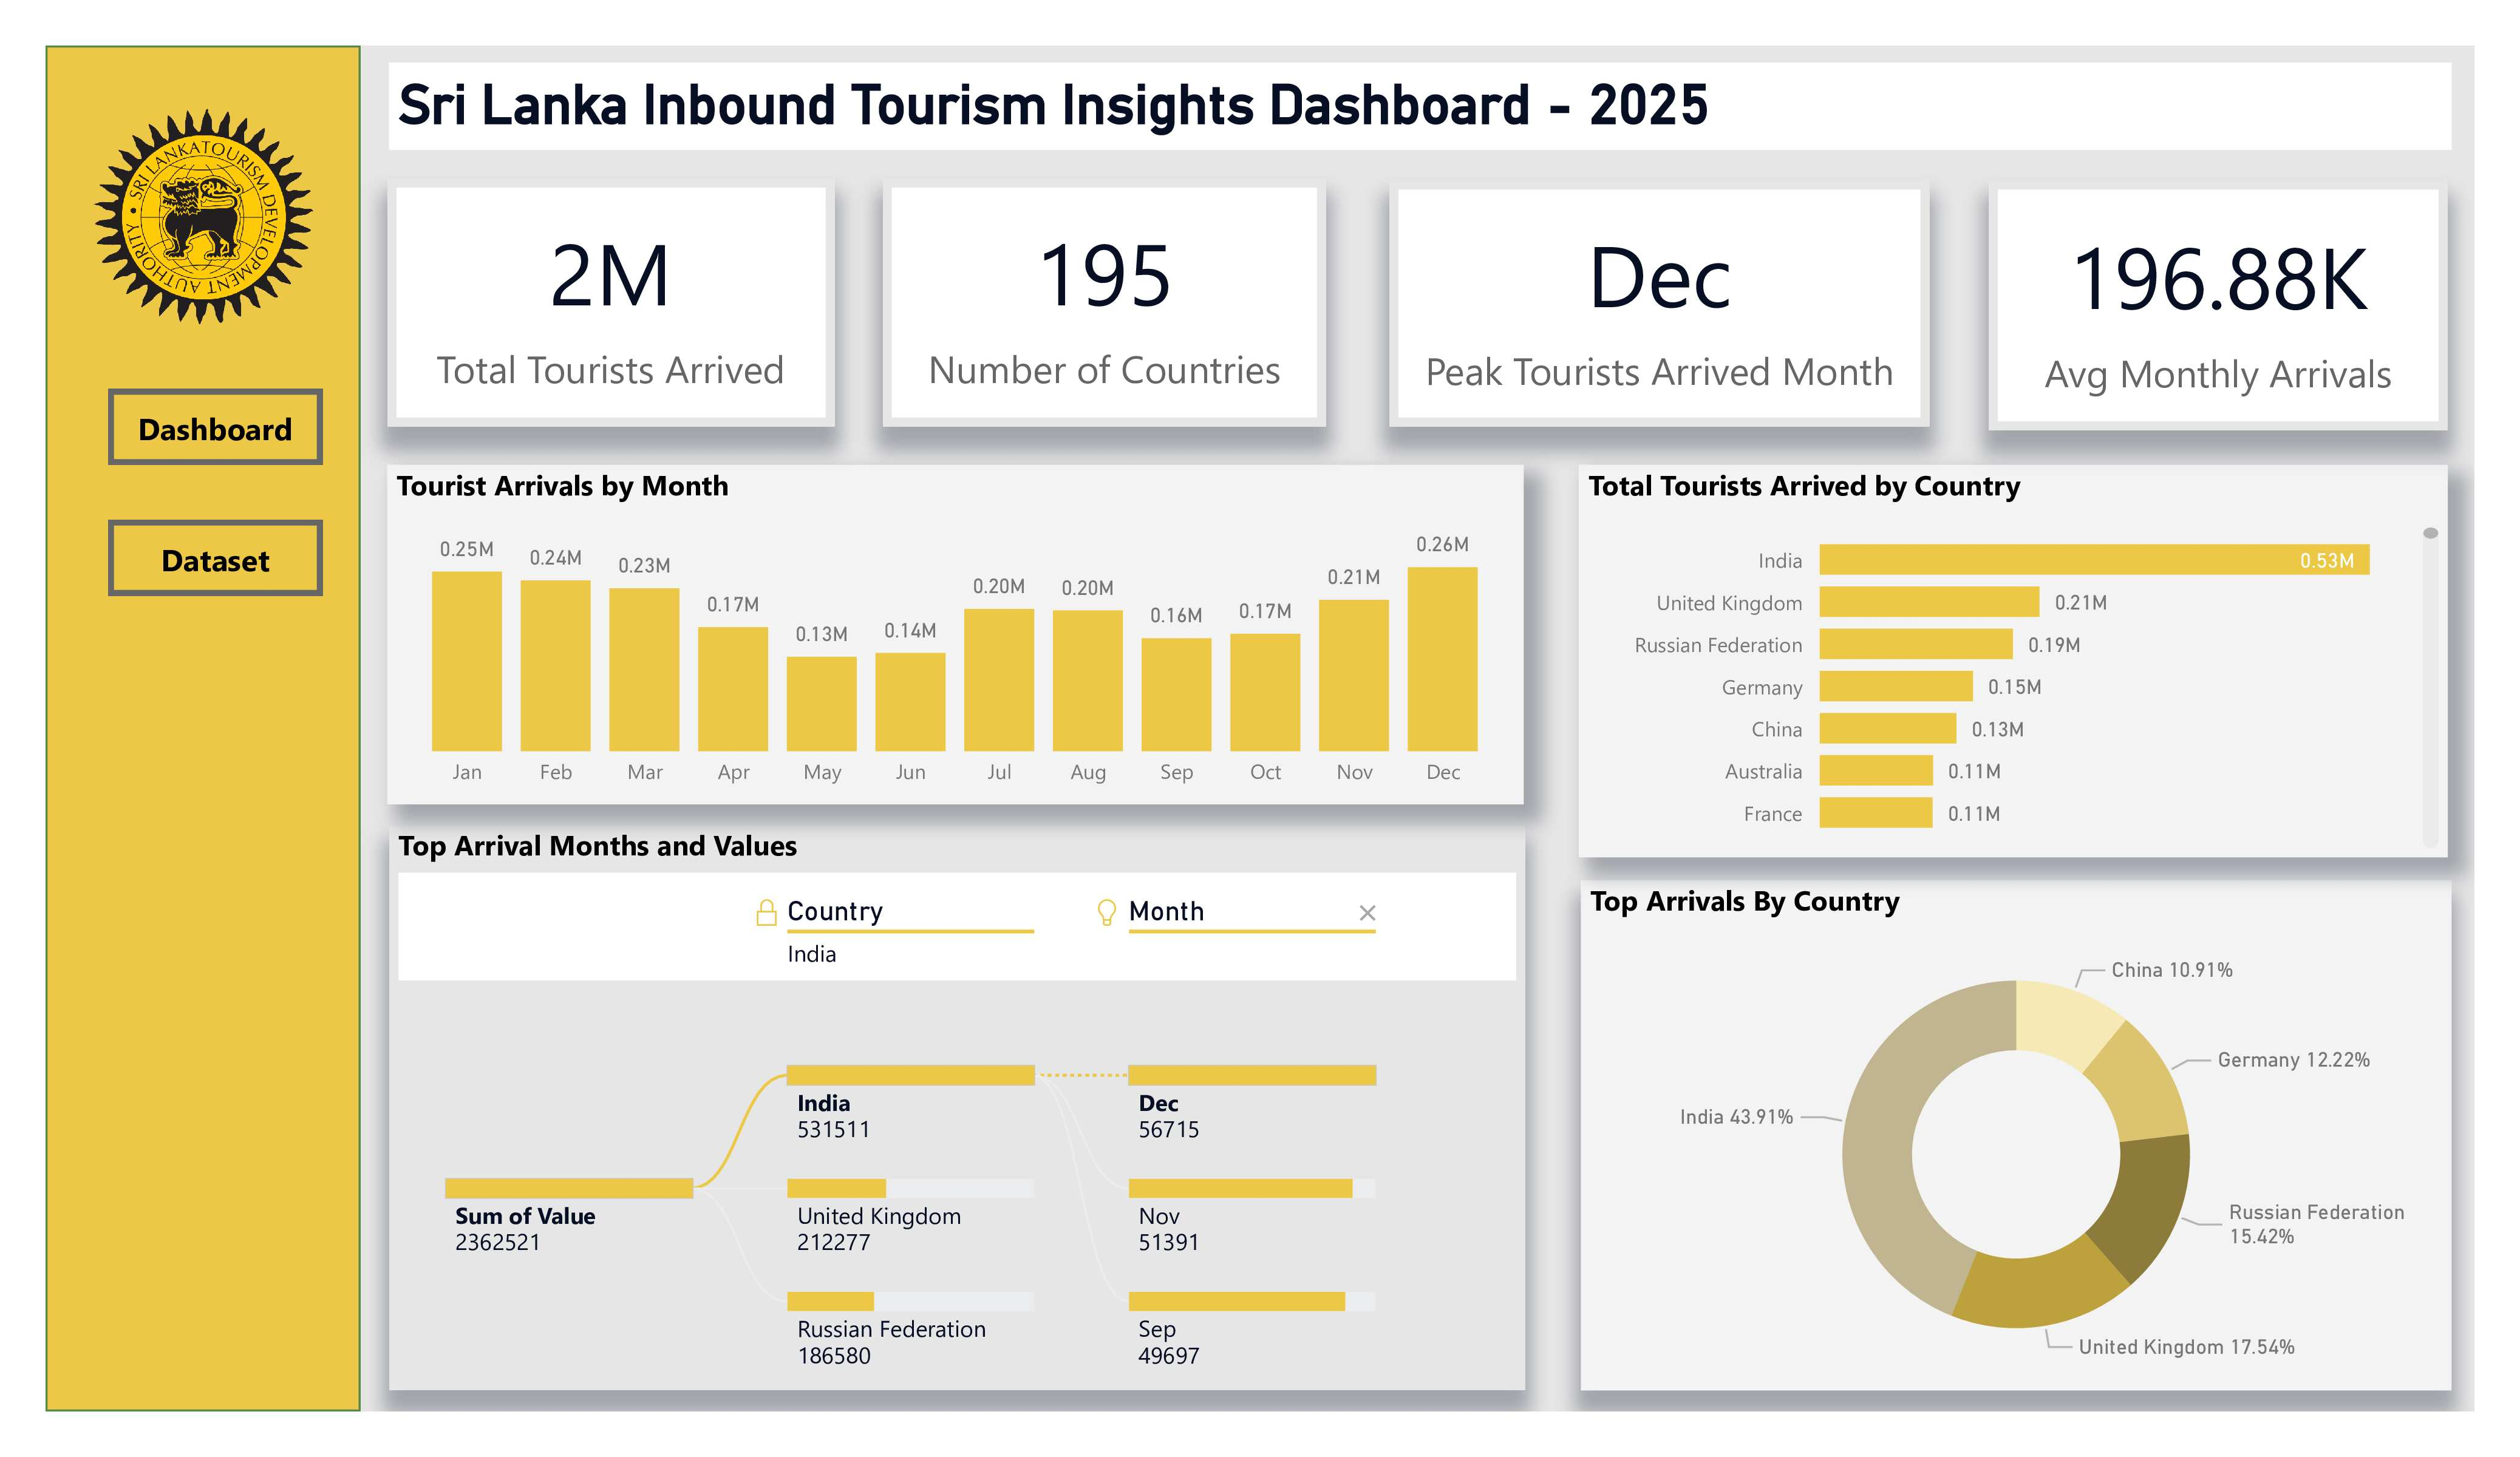

Layout of this report page (visuals, bound fields, positions):
{"tool":"powerbi","page":{"name":"Page 1","canvas":[1280,720],"ordinal":0},"visuals":[{"type":"shape","box":[0,0,166.5,720.2],"z":0},{"type":"cardVisual","fields":{"Data":["CountNonNull(All Country.Country)"]},"box":[441.2,70,233.8,131.2],"z":0},{"type":"image","box":[0,24.1,166.5,131.5],"z":1000},{"type":"cardVisual","fields":{"Data":["Modified.Peak Month"]},"box":[707.5,71.2,285,130],"z":1000},{"type":"cardVisual","fields":{"Data":["Modified.Avg Monthly Arrivals"]},"box":[1023.8,71.2,242.5,131.2],"z":2000},{"type":"actionButton","box":[32.6,181,113.4,39.8],"z":2000},{"type":"actionButton","box":[32.6,249.7,113.4,39.8],"z":3000},{"type":"donutChart","title":"Top Arrivals By Country","fields":{"Category":["All_Country__Print_Area.Country"],"Y":["Sum(All_Country__Print_Area.Value)"]},"box":[808.8,440,458.8,268.8],"z":3000},{"type":"textbox","box":[181.2,8.8,1086.2,46.2],"z":4000},{"type":"clusteredBarChart","title":"Total Tourists Arrived by Country","fields":{"Category":["All_Country__Print_Area.Country"],"Y":["Sum(All_Country__Print_Area.Value)"]},"box":[807.5,221.2,458.8,206.2],"z":4000},{"type":"cardVisual","fields":{"Data":["Sum(All_Country__Print_Area.Value)"]},"box":[180,70,236.2,131.2],"z":5000},{"type":"clusteredColumnChart","title":"Tourist Arrivals by Month","fields":{"Y":["Sum(Modified.Value)"],"Category":["Modified.Month"]},"box":[180,221.2,598.8,178.8],"z":6000},{"type":"decompositionTreeVisual","title":"Top Arrival Months and Values","fields":{"Analyze":["Sum(Modified.Value)"],"ExplainBy":["Modified.Country","Modified.Month"]},"box":[181.2,411.2,598.8,297.5],"z":7000}]}

Visuals, with their boxes in screenshot pixels (x1, y1, x2, y2):
shape: detection(33, 0, 368, 1423)
cardVisual - CountNonNull(All Country.Country): detection(921, 115, 1392, 379)
image: detection(33, 22, 368, 287)
cardVisual - Modified.Peak Month: detection(1457, 117, 2031, 379)
cardVisual - Modified.Avg Monthly Arrivals: detection(2094, 117, 2519, 381)
actionButton: detection(98, 338, 327, 418)
actionButton: detection(98, 476, 327, 556)
"Top Arrivals By Country" donutChart: detection(1661, 859, 2519, 1400)
textbox: detection(398, 0, 2519, 84)
"Total Tourists Arrived by Country" clusteredBarChart: detection(1658, 419, 2519, 834)
cardVisual - Sum(All_Country__Print_Area.Value): detection(395, 115, 871, 379)
"Tourist Arrivals by Month" clusteredColumnChart: detection(395, 419, 1601, 779)
"Top Arrival Months and Values" decompositionTreeVisual: detection(398, 801, 1603, 1400)
